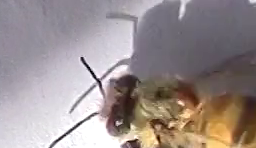Varroa destructor: (175, 81, 202, 108)
